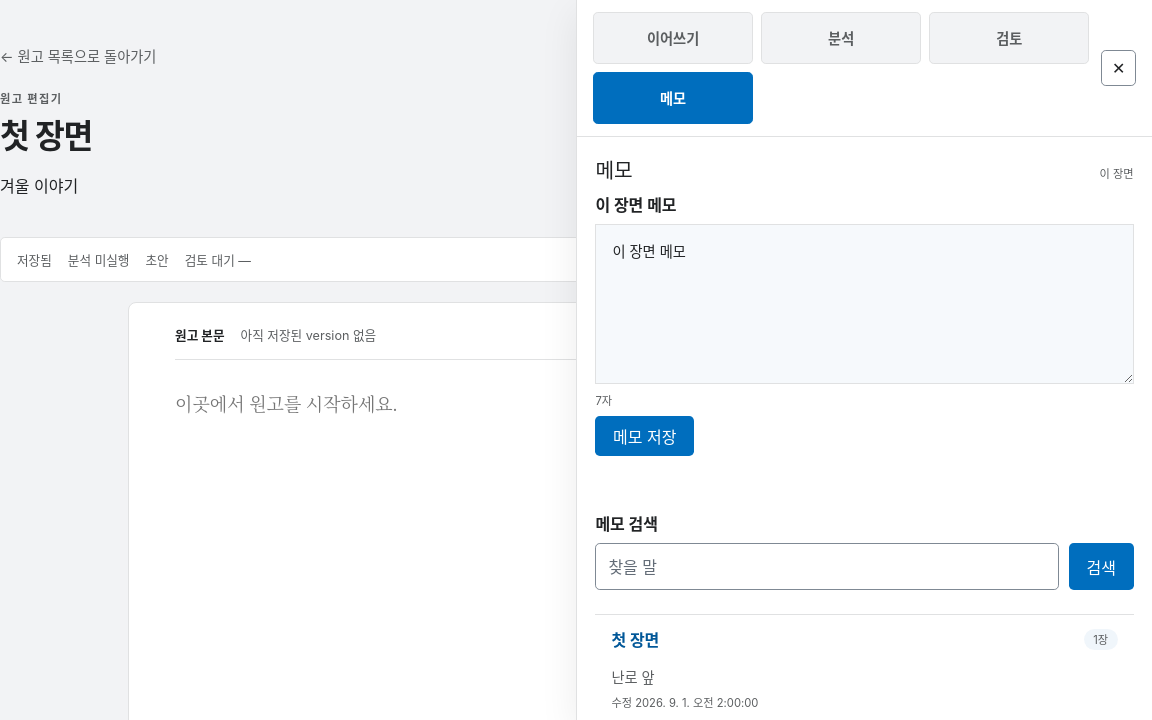
Test case: keeps the memo tab selected across an actual drawer close and reopen
Expected: the text box showing "이 장면 메모" is shown, [595,224,1134,384]
Step 1. Click the button named "패널 닫기" → point(1119, 68), box [1101,50,1136,86]
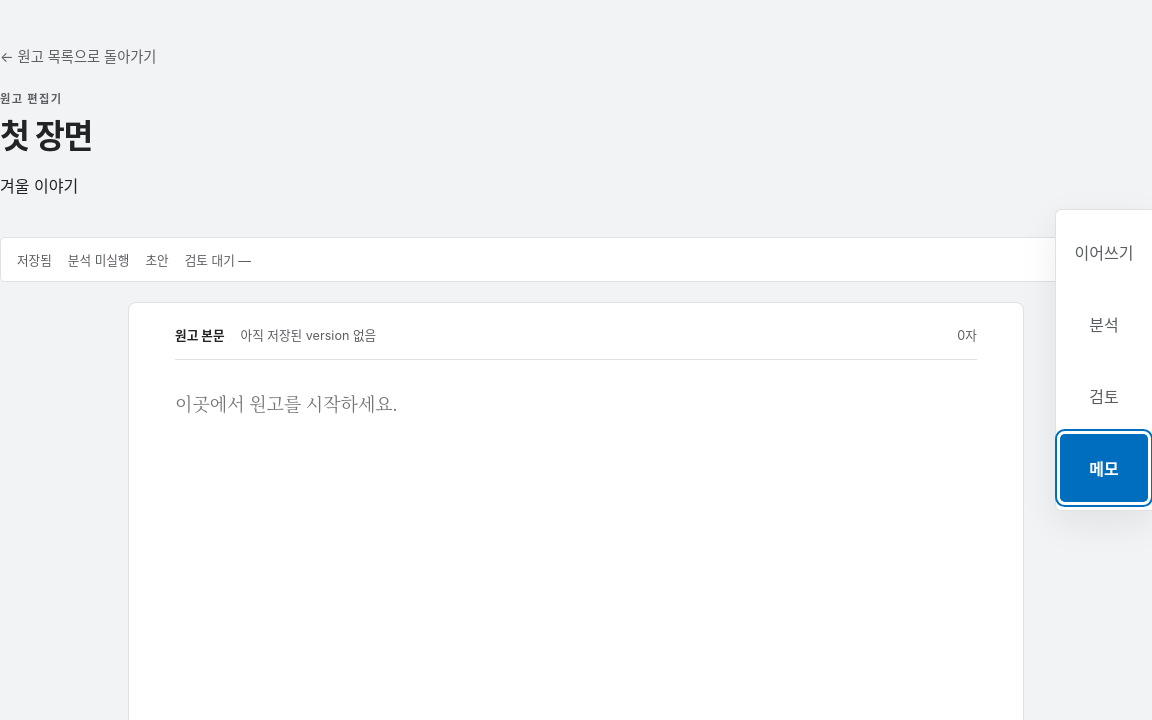
Step 2. Click the tab "메모" → point(1104, 468), box [1060,434,1148,502]
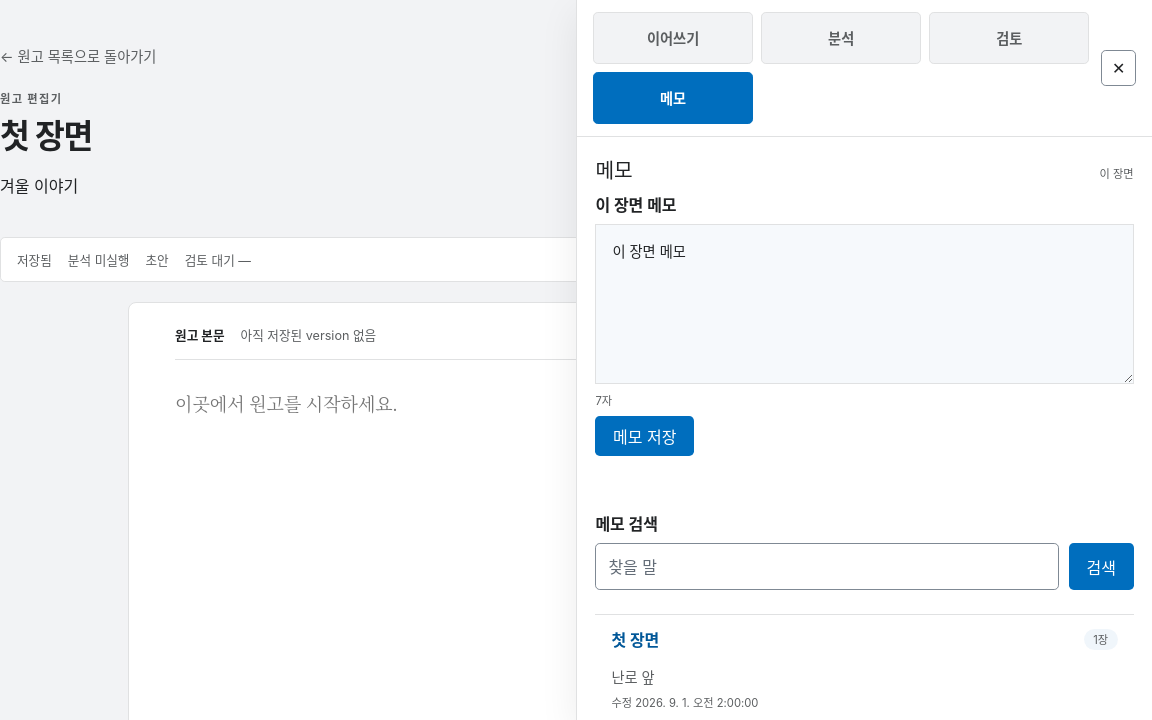
Result: the text box showing "이 장면 메모" is shown at [595,224,1134,384]
